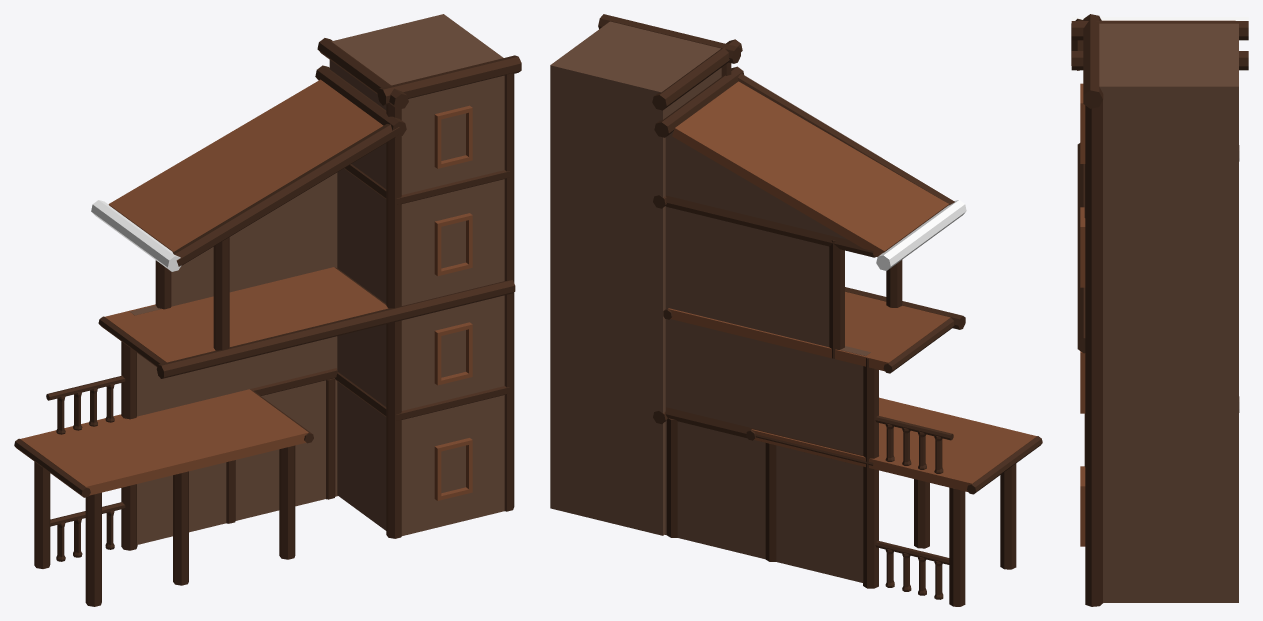
File: Side-hut.fbx
The picture shows the model from 3 angles, left to right: view 1: azimuth 30°, elevation 25°; view 2: azimuth 150°, elevation 25°; view 3: azimuth 270°, elevation 25°; orthographic projection. The views are drawn at different scales.
Visible parts, largest first — view 1: Cylinder.020; view 2: Cylinder.020; view 3: Cylinder.020.
Part boxes in pixels (x1,y1,x2,y2): Cylinder.020: [14, 14, 521, 606]; Cylinder.020: [550, 14, 1042, 606]; Cylinder.020: [1071, 14, 1248, 606].
Size of the model in its own units: 3585 by 3528 by 1085.
